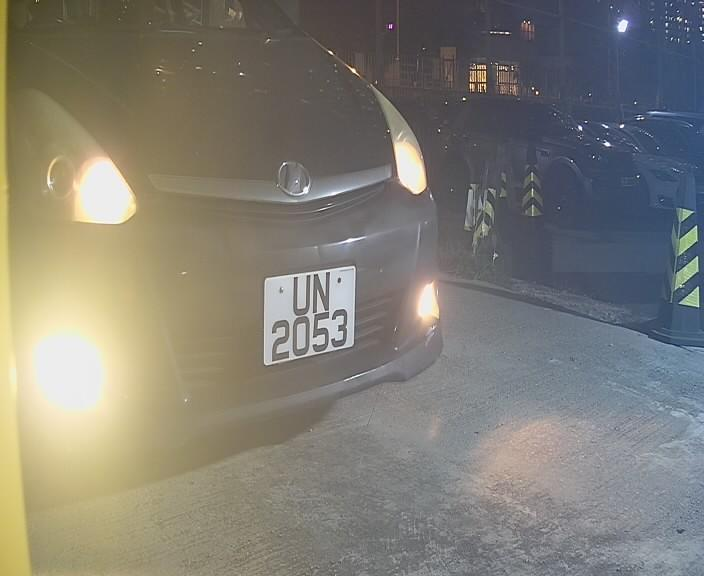privatecar: (32, 16, 434, 445)
